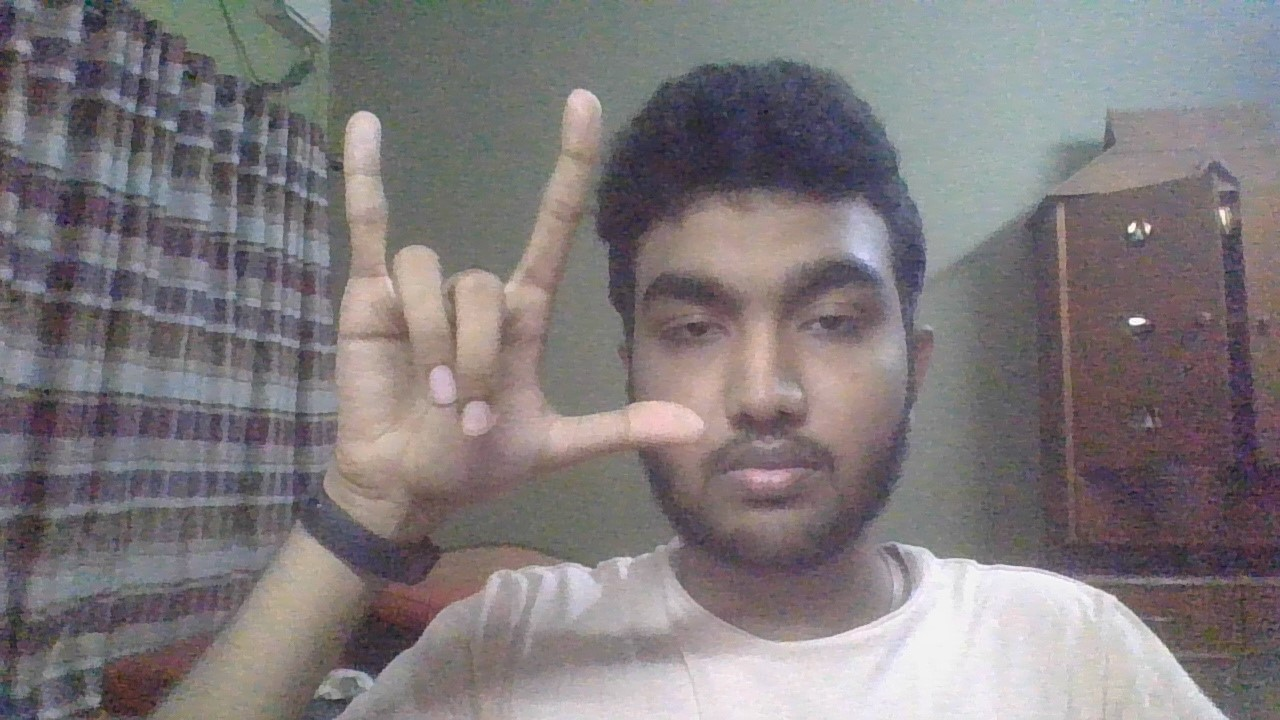I Love You: (304, 72, 712, 547)
